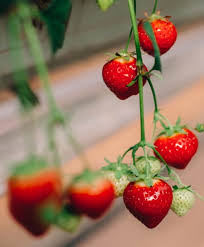ripe: (5, 171, 65, 241), (121, 175, 174, 232), (100, 49, 150, 102), (67, 171, 113, 225), (153, 122, 199, 173), (134, 10, 176, 64)
unripe: (98, 158, 136, 197), (137, 150, 160, 186), (169, 187, 192, 217)
